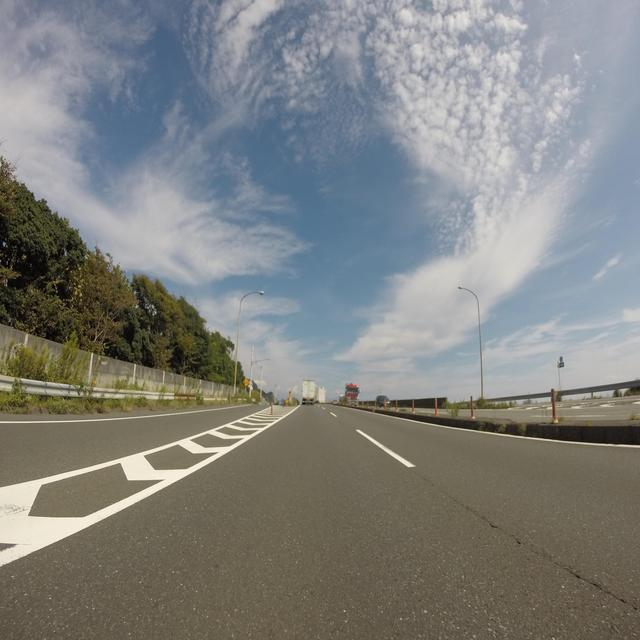Barrier: (323, 403, 639, 444)
Car: (375, 395, 390, 406)
Vegetation: (441, 396, 517, 418), (613, 387, 639, 396)
